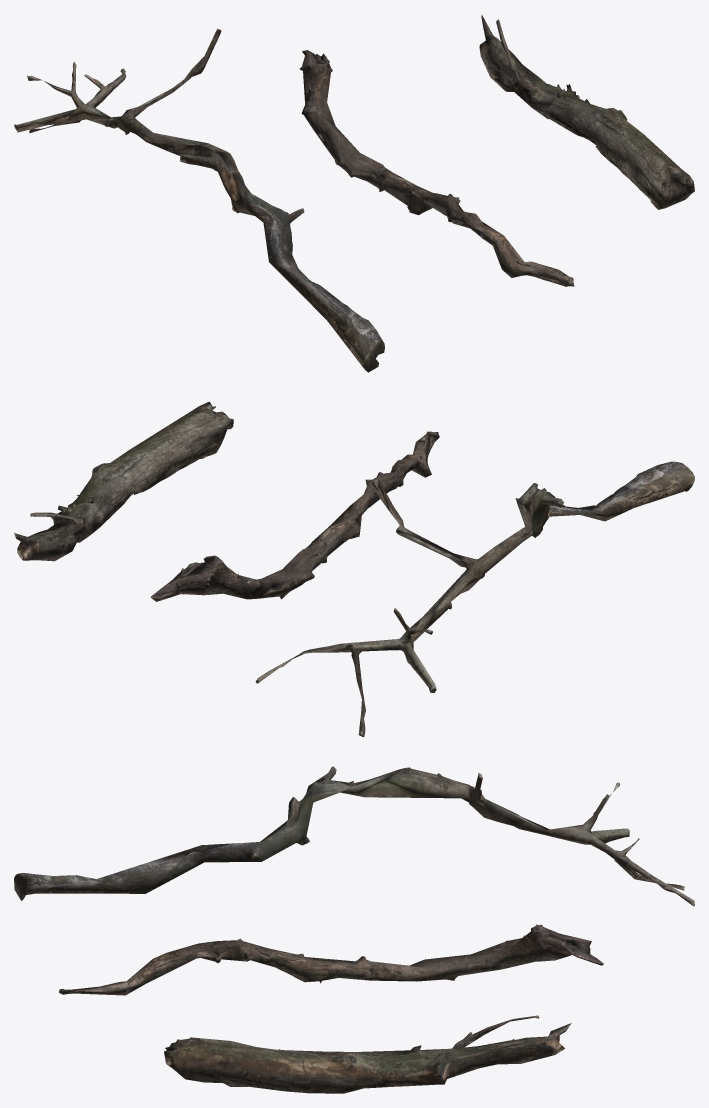
The model's file is dry_branches_medium_01.glb.
The picture shows the model from 3 angles, top to bottom: view 1: azimuth 30°, elevation 25°; view 2: azimuth 150°, elevation 25°; view 3: azimuth 270°, elevation 25°; orthographic projection. The views are drawn at different scales.
Parts seen in each view (by area): view 1: dry_branches_medium_01_a, dry_branches_medium_01_c, dry_branches_medium_01_b; view 2: dry_branches_medium_01_a, dry_branches_medium_01_c, dry_branches_medium_01_b; view 3: dry_branches_medium_01_c, dry_branches_medium_01_a, dry_branches_medium_01_b.
Boxes of the visible parts, <box> form: dry_branches_medium_01_a: <box>14,28,384,372</box>; dry_branches_medium_01_c: <box>479,15,694,209</box>; dry_branches_medium_01_b: <box>300,50,574,286</box>; dry_branches_medium_01_a: <box>255,461,694,737</box>; dry_branches_medium_01_c: <box>14,401,233,561</box>; dry_branches_medium_01_b: <box>150,431,439,601</box>; dry_branches_medium_01_c: <box>164,1015,571,1093</box>; dry_branches_medium_01_a: <box>14,766,694,906</box>; dry_branches_medium_01_b: <box>59,924,603,995</box>.
Size of the model in its own units: 1.06 by 0.3401 by 1.3.
Materials: 1 (1 with a texture image).
